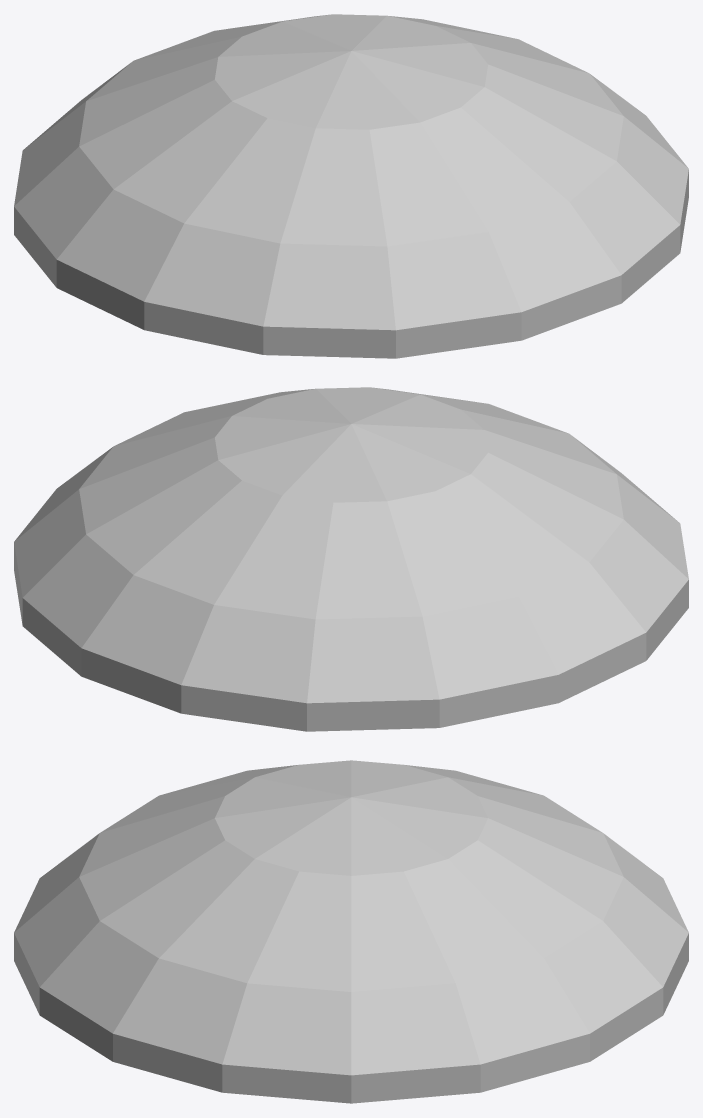
The model's file is dividers-dome.glb.
3 views of the same model, one above another, from view 1: azimuth 30°, elevation 25°; view 2: azimuth 150°, elevation 25°; view 3: azimuth 270°, elevation 25° (orthographic).
Parts seen in each view (by area): view 1: dome; view 2: dome; view 3: dome.
Boxes of the visible parts, x1,y1,x2,y2 form: dome: (14,14,688,358); dome: (14,387,688,731); dome: (14,760,688,1103).
Size of the model in its own units: 0.1016 by 0.0272 by 0.1016.
1 material, 1 textured.
